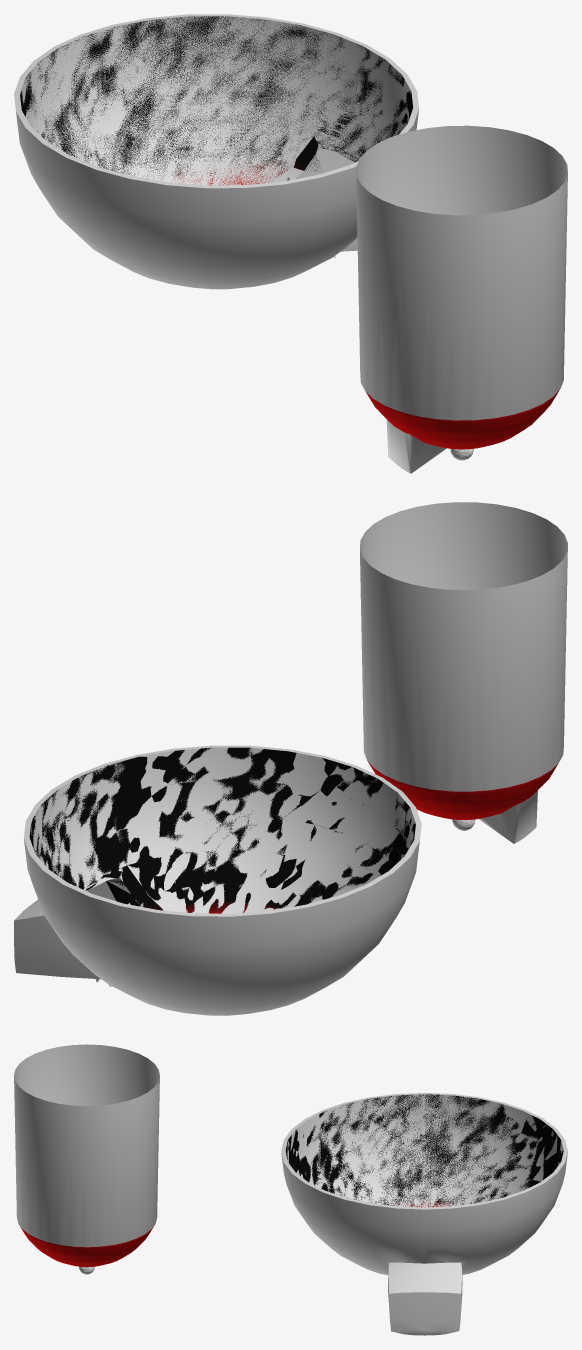
The model's file is assets.glb.
The picture shows the model from 3 angles, top to bottom: view 1: azimuth 30°, elevation 25°; view 2: azimuth 150°, elevation 25°; view 3: azimuth 270°, elevation 25°; orthographic projection. The views are drawn at different scales.
Visible parts, largest first — view 1: BowlNew, Bowl, SauceGeometry; view 2: BowlNew, Bowl, SauceGeometry; view 3: BowlNew, Bowl, SauceGeometry.
Part boxes in pixels (x1,y1,x2,y2): BowlNew: [14, 14, 418, 289]; Bowl: [356, 125, 567, 473]; SauceGeometry: [20, 16, 413, 185]; BowlNew: [14, 745, 421, 1015]; Bowl: [360, 502, 567, 843]; SauceGeometry: [29, 747, 415, 913]; BowlNew: [281, 1093, 567, 1335]; Bowl: [14, 1044, 159, 1266]; SauceGeometry: [286, 1094, 563, 1207].
Size of what is drawn, in the model's own units: 34 by 25.97 by 65.65.
6 materials, 1 textured.
